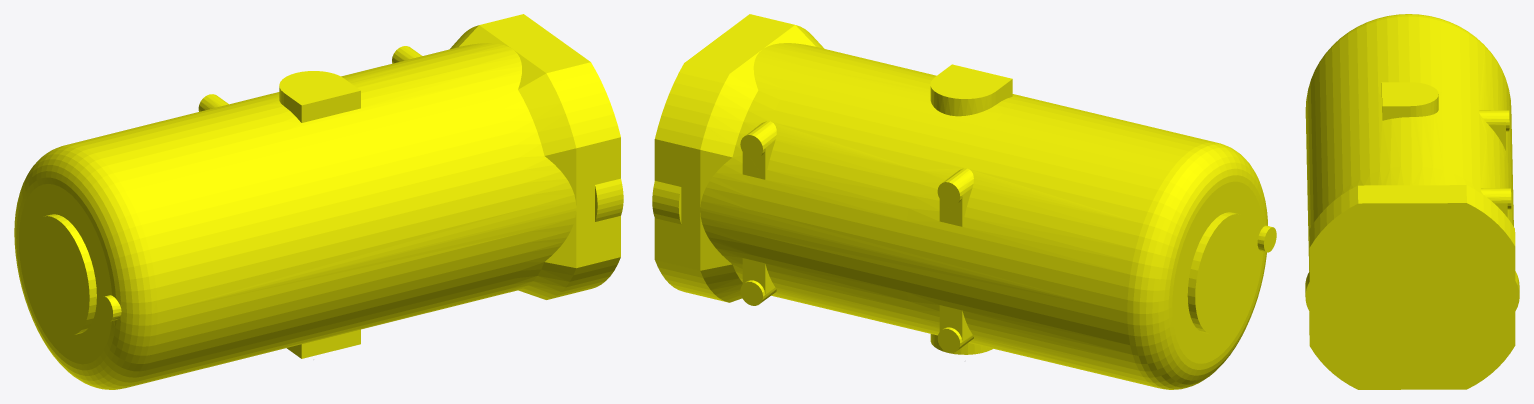
The picture shows the model from 3 angles, left to right: view 1: azimuth 30°, elevation 25°; view 2: azimuth 150°, elevation 25°; view 3: azimuth 270°, elevation 25°; orthographic projection. The views are drawn at different scales.
Parts seen in each view (by area): view 1: node; view 2: node; view 3: node.
Boxes of the visible parts, left/top/right/bottom form: node: left=14, top=14, right=623, bottom=389; node: left=652, top=14, right=1276, bottom=389; node: left=1305, top=14, right=1519, bottom=389.
Bounding box in the file's own units: 673 × 351 × 302.
